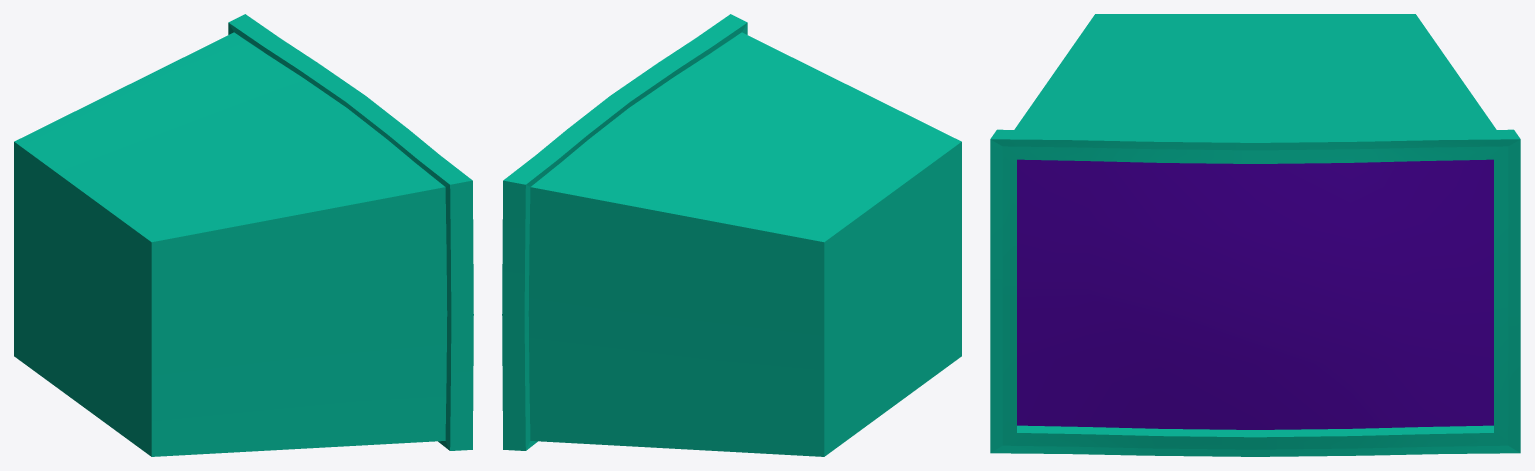
File: telaSeguranca.fbx
3 renders of one model, left to right at view 1: azimuth 30°, elevation 25°; view 2: azimuth 150°, elevation 25°; view 3: azimuth 270°, elevation 25°, orthographic. The views are drawn at different scales.
Visible parts, largest first — view 1: pCube1; view 2: pCube1; view 3: pCube1.
Part boxes in pixels (x1,y1,x2,y2): pCube1: (14, 14, 473, 456); pCube1: (502, 14, 961, 456); pCube1: (990, 14, 1520, 456).
Bounding box in the file's own units: 3.45 × 3.13 × 4.79.
